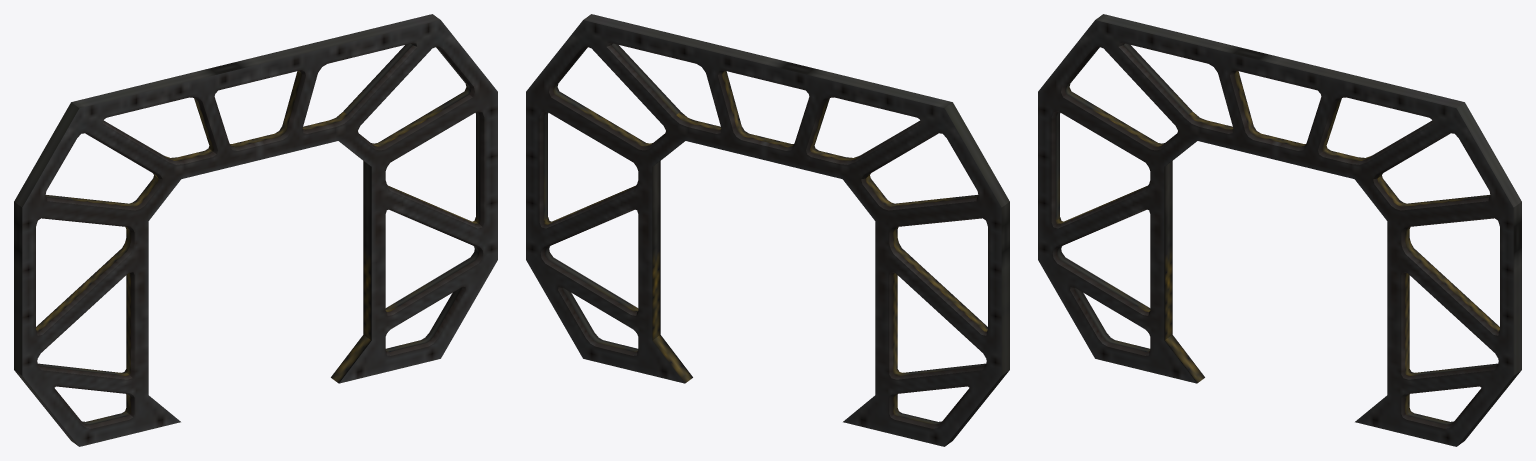
Rendered from Bulkhead_2.FBX.
3 renders of one model, left to right at view 1: azimuth 30°, elevation 25°; view 2: azimuth 150°, elevation 25°; view 3: azimuth 330°, elevation 25°, orthographic.
Visible parts, largest first — view 1: Bulkhead_2; view 2: Bulkhead_2; view 3: Bulkhead_2.
Boxes of the visible parts, x1,y1,x2,y2 form: Bulkhead_2: (14, 14, 497, 446); Bulkhead_2: (526, 14, 1009, 446); Bulkhead_2: (1038, 14, 1521, 446).
Size of the model in its own units: 592 by 403 by 17.9.
